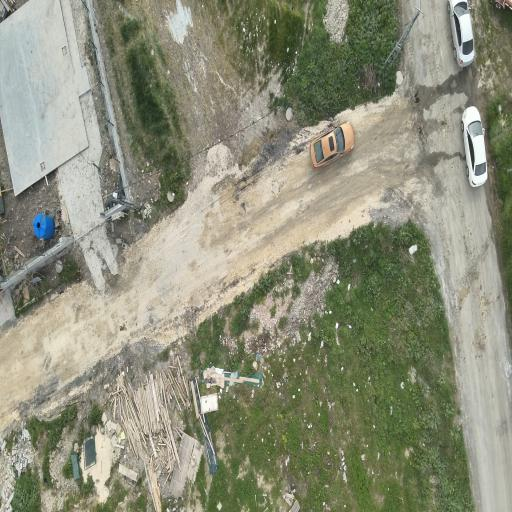car: (461, 107, 487, 186), (311, 122, 354, 168), (448, 0, 474, 67)
